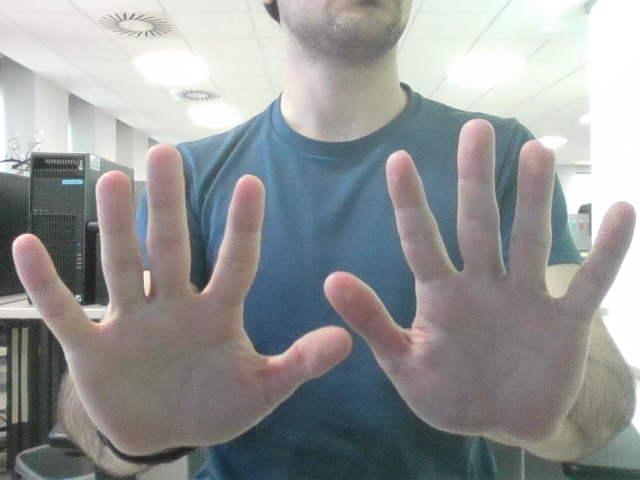Manos Arriba: (55, 151, 590, 407)
